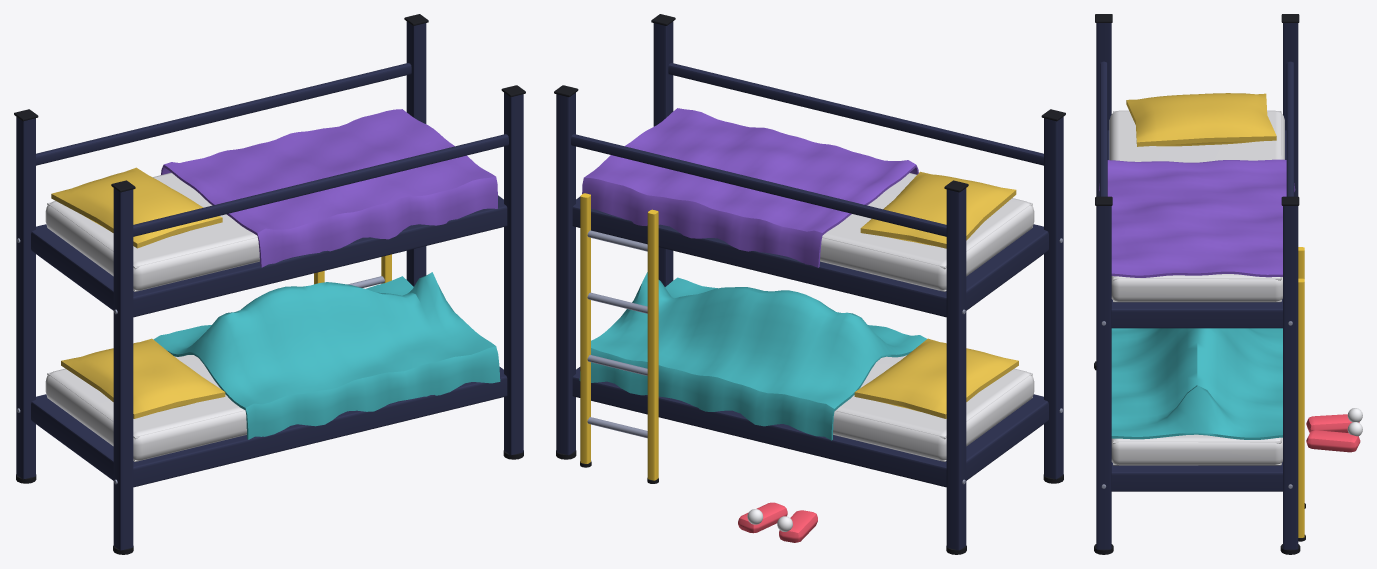
The model's file is bunk.glb.
3 views of the same model, side by side, from view 1: azimuth 30°, elevation 25°; view 2: azimuth 150°, elevation 25°; view 3: azimuth 270°, elevation 25° (orthographic). The views are drawn at different scales.
Visible parts, largest first — view 1: Body; view 2: Body; view 3: Body.
Part boxes in pixels (box(x1,y1,x2,y2)): Body: box(14, 14, 525, 554); Body: box(554, 14, 1065, 554); Body: box(1094, 14, 1362, 554).
Bounding box in the file's own units: 2.06 × 1.76 × 1.23.
